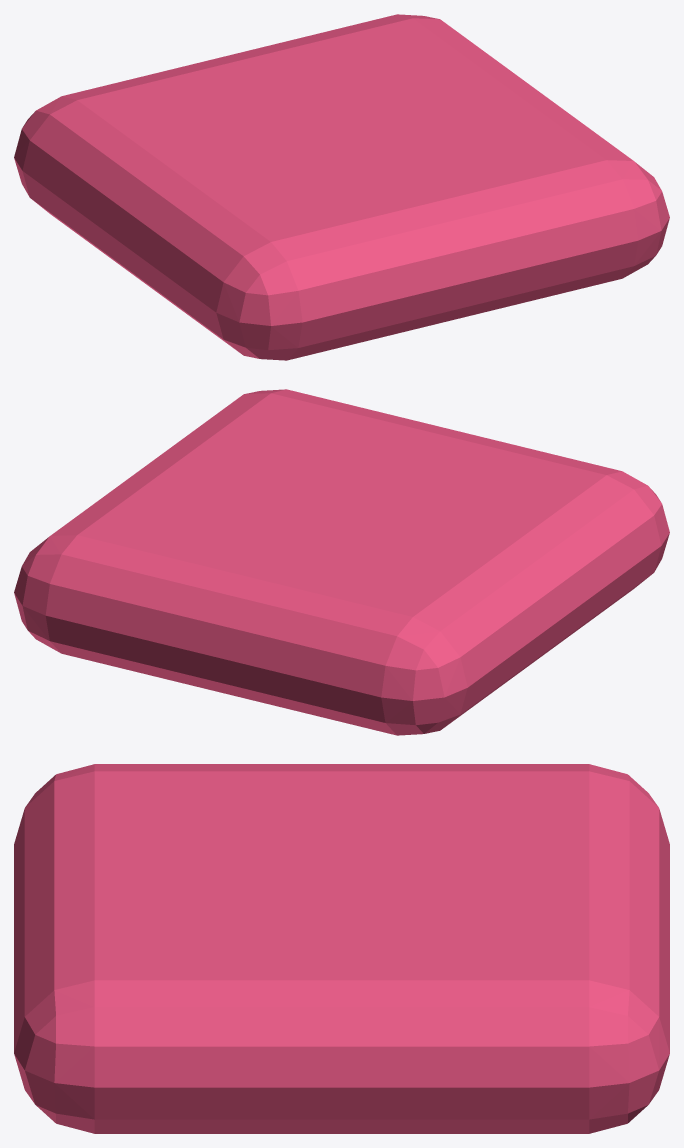
File: CP04-cushion.glb
3 renders of one model, top to bottom at view 1: azimuth 30°, elevation 25°; view 2: azimuth 150°, elevation 25°; view 3: azimuth 270°, elevation 25°, orthographic. The views are drawn at different scales.
Parts seen in each view (by area): view 1: CP04-cushion; view 2: CP04-cushion; view 3: CP04-cushion.
Part boxes in pixels (x1,y1,x2,y2): CP04-cushion: (14,14,669,360); CP04-cushion: (14,389,669,735); CP04-cushion: (14,764,669,1133).
Size of the model in its own units: 0.65 by 0.16 by 0.65.
